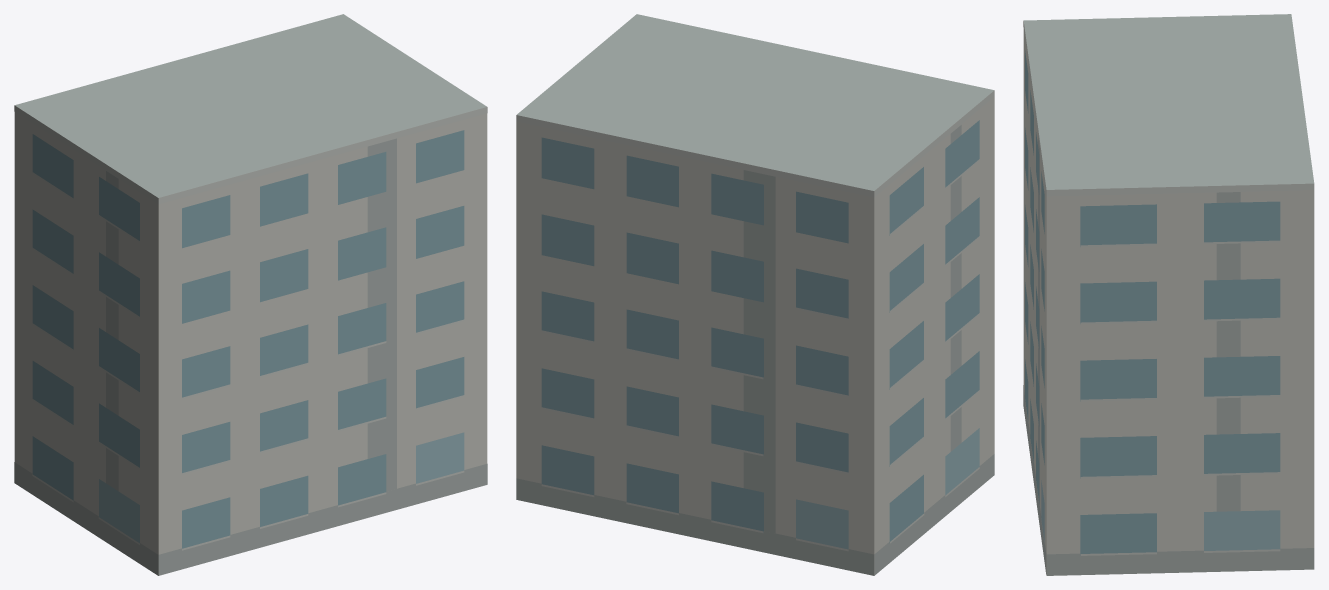
File: survey-upis-32737438.glb
3 views of the same model, side by side, from view 1: azimuth 30°, elevation 25°; view 2: azimuth 150°, elevation 25°; view 3: azimuth 270°, elevation 25° (orthographic). The views are drawn at different scales.
Visible parts, largest first — view 1: survey-upis-32737438.tmp; view 2: survey-upis-32737438.tmp; view 3: survey-upis-32737438.tmp.
Part boxes in pixels (x1,y1,x2,y2): survey-upis-32737438.tmp: (14, 14, 487, 575); survey-upis-32737438.tmp: (516, 14, 994, 575); survey-upis-32737438.tmp: (1023, 14, 1314, 575).
Size of the model in its own units: 13.9 by 14.2 by 9.71.
